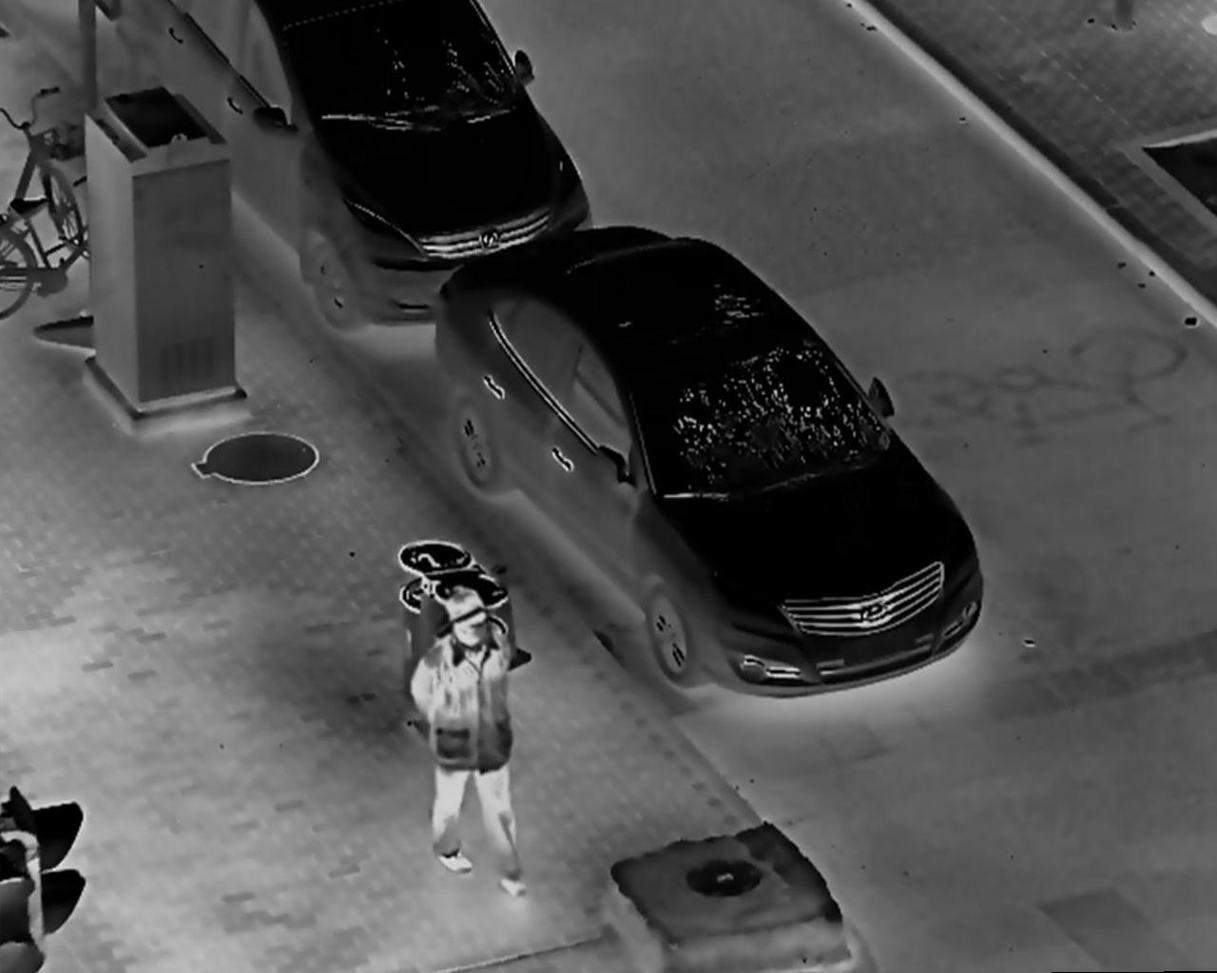person: (406, 580, 536, 904)
